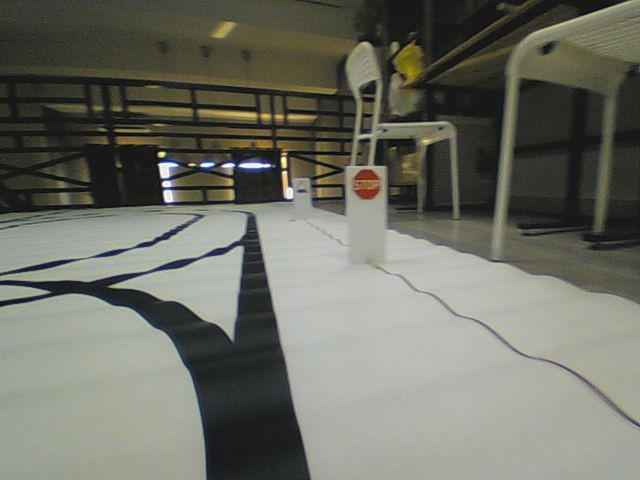Stop: (351, 167, 382, 201)
